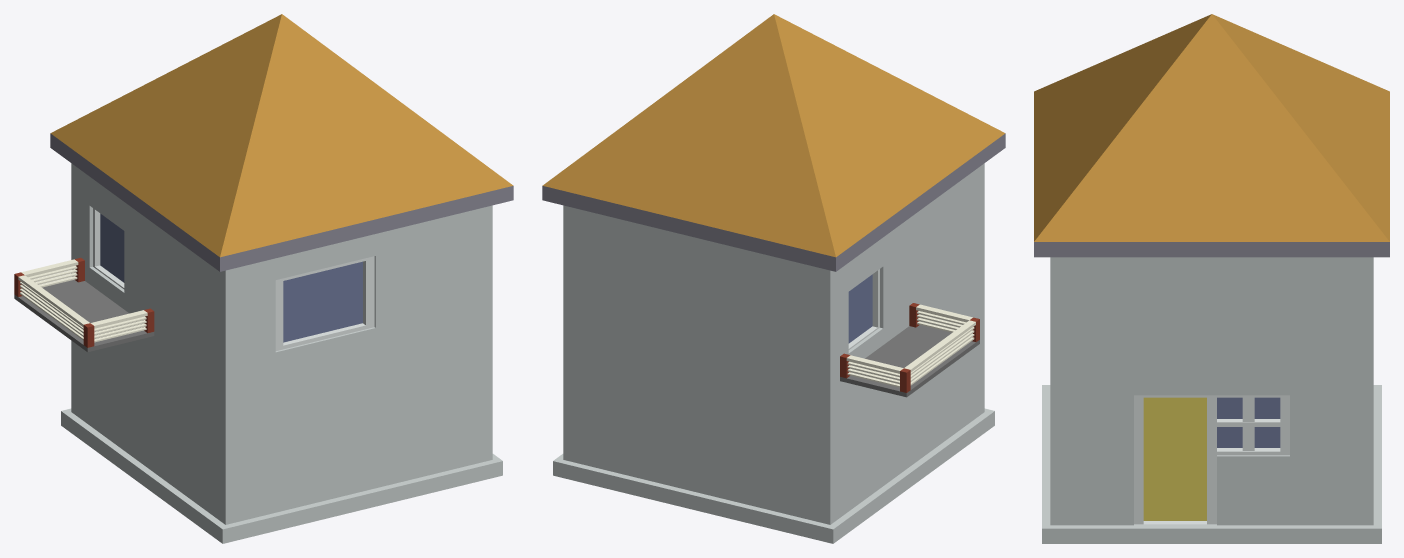
File: building11.fbx
3 views of the same model, side by side, from view 1: azimuth 30°, elevation 25°; view 2: azimuth 150°, elevation 25°; view 3: azimuth 270°, elevation 25° (orthographic). The views are drawn at different scales.
Parts seen in each view (by area): view 1: building_009.001; view 2: building_009.001; view 3: building_009.001.
Part boxes in pixels (x1,y1,x2,y2): building_009.001: (14, 14, 513, 543); building_009.001: (542, 14, 1005, 543); building_009.001: (1034, 14, 1389, 543).
Bounding box in the file's own units: 12.48 × 15 × 10.56.
